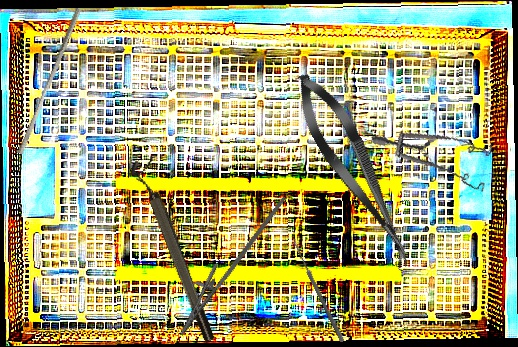Fixation Ring: (127, 155, 219, 347)
Micro Scissor: (283, 64, 427, 276)
Needle Holder: (168, 179, 287, 347)
Pusher: (16, 5, 82, 157)
Speculum: (369, 109, 503, 214)
Surgical Spoon: (290, 238, 346, 343)
